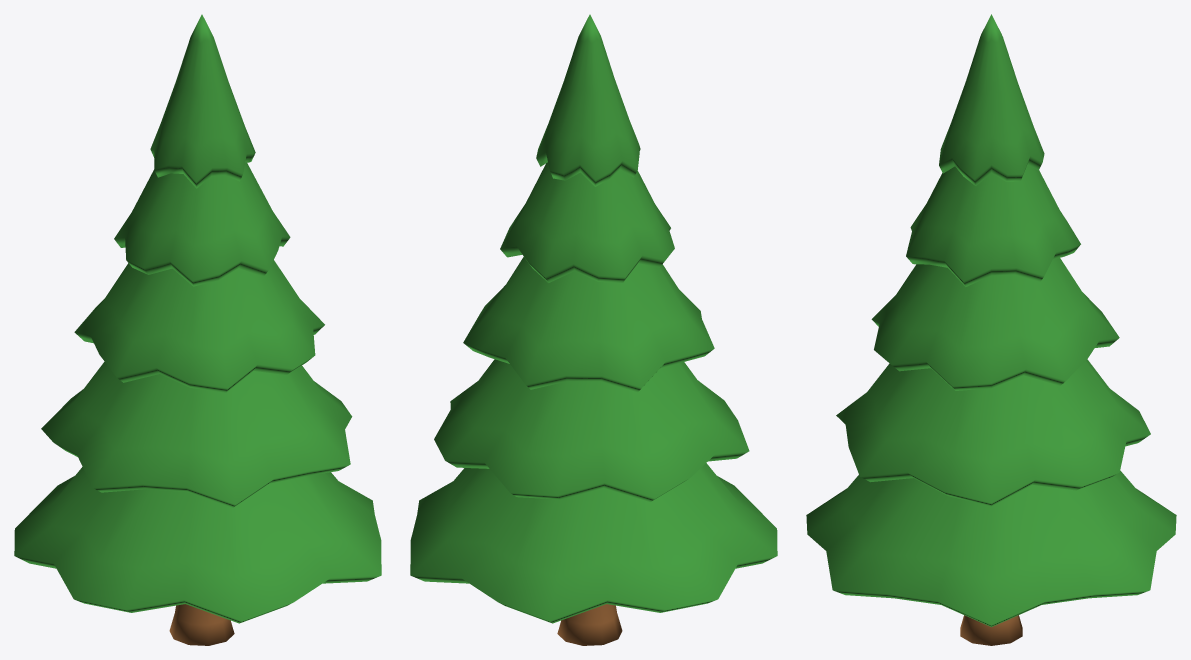
The model's file is tree_pine.glb.
3 renders of one model, left to right at view 1: azimuth 30°, elevation 25°; view 2: azimuth 150°, elevation 25°; view 3: azimuth 270°, elevation 25°, orthographic.
Visible parts, largest first — view 1: tree_pine; view 2: tree_pine; view 3: tree_pine.
Boxes of the visible parts, x1,y1,x2,y2 form: tree_pine: (14, 14, 381, 645); tree_pine: (410, 14, 777, 645); tree_pine: (806, 14, 1176, 645).
Size of the model in its own units: 2.78 by 5 by 2.71.
